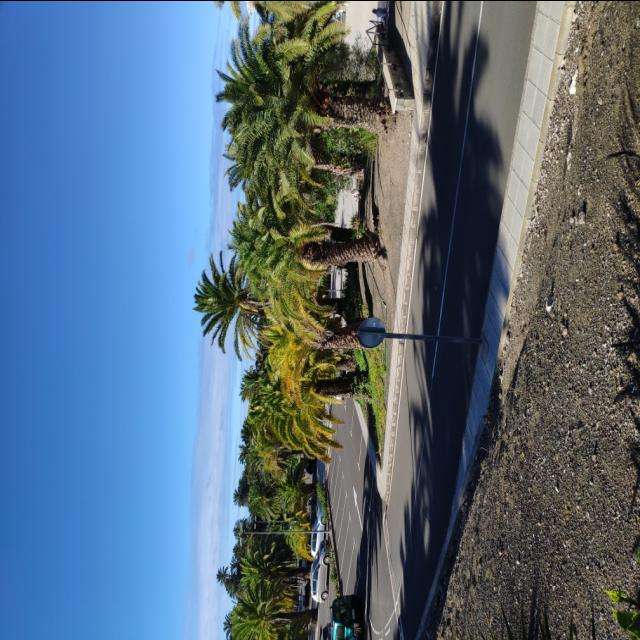Palm-Trees: (229, 13, 389, 203), (250, 197, 376, 301), (192, 247, 268, 347)
